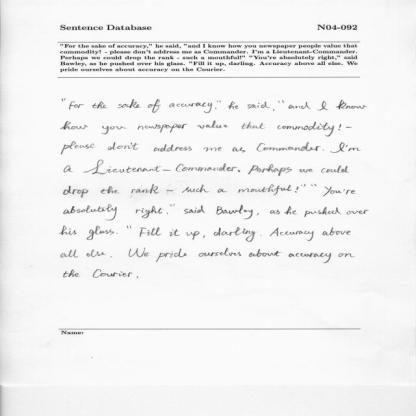Handwritten text: (54, 222, 359, 244), (57, 201, 371, 220), (56, 140, 364, 159), (61, 158, 353, 178), (54, 180, 359, 199), (56, 118, 336, 138), (66, 96, 371, 113), (57, 248, 358, 265), (55, 265, 136, 284)
